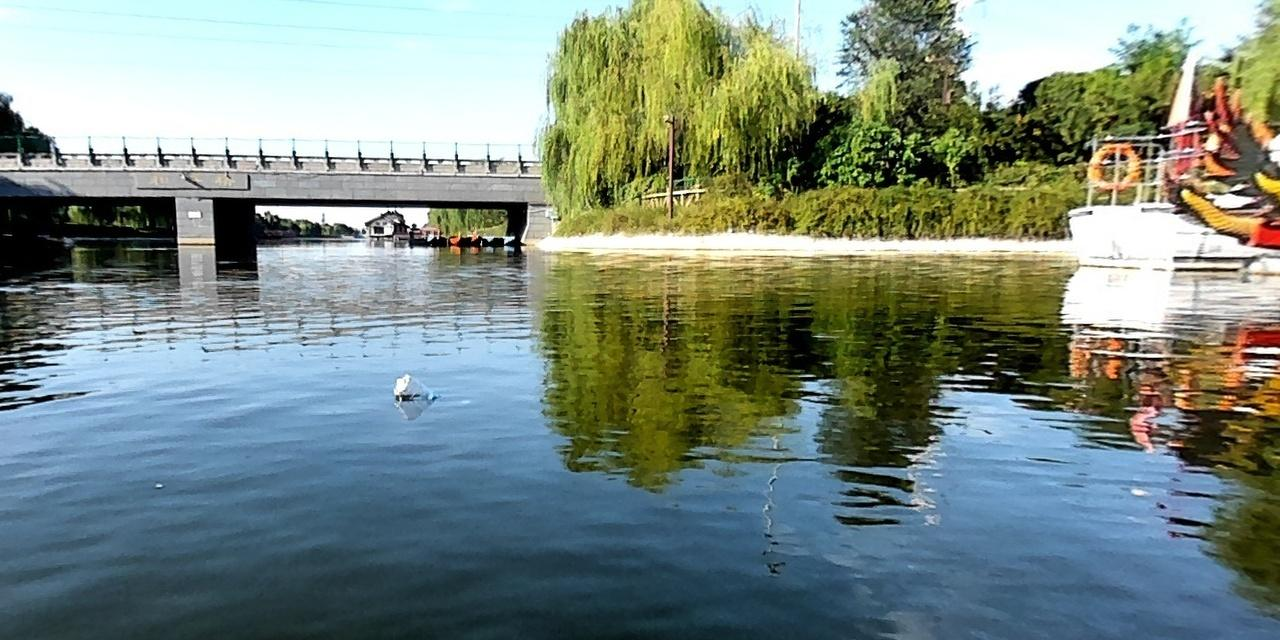bottle: (389, 372, 440, 401)
